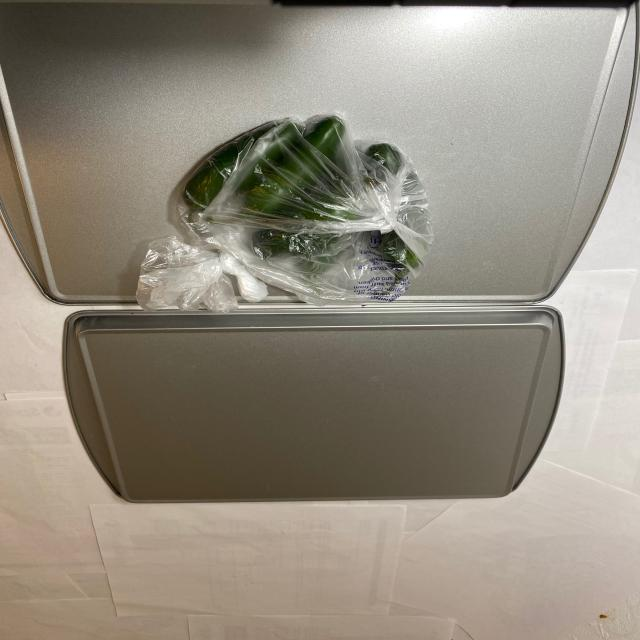chilli: (178, 128, 435, 294)
